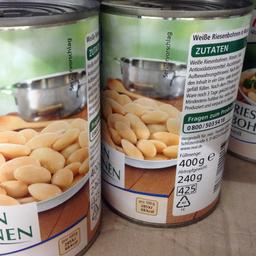beans: (100, 1, 250, 231), (0, 1, 97, 255)
